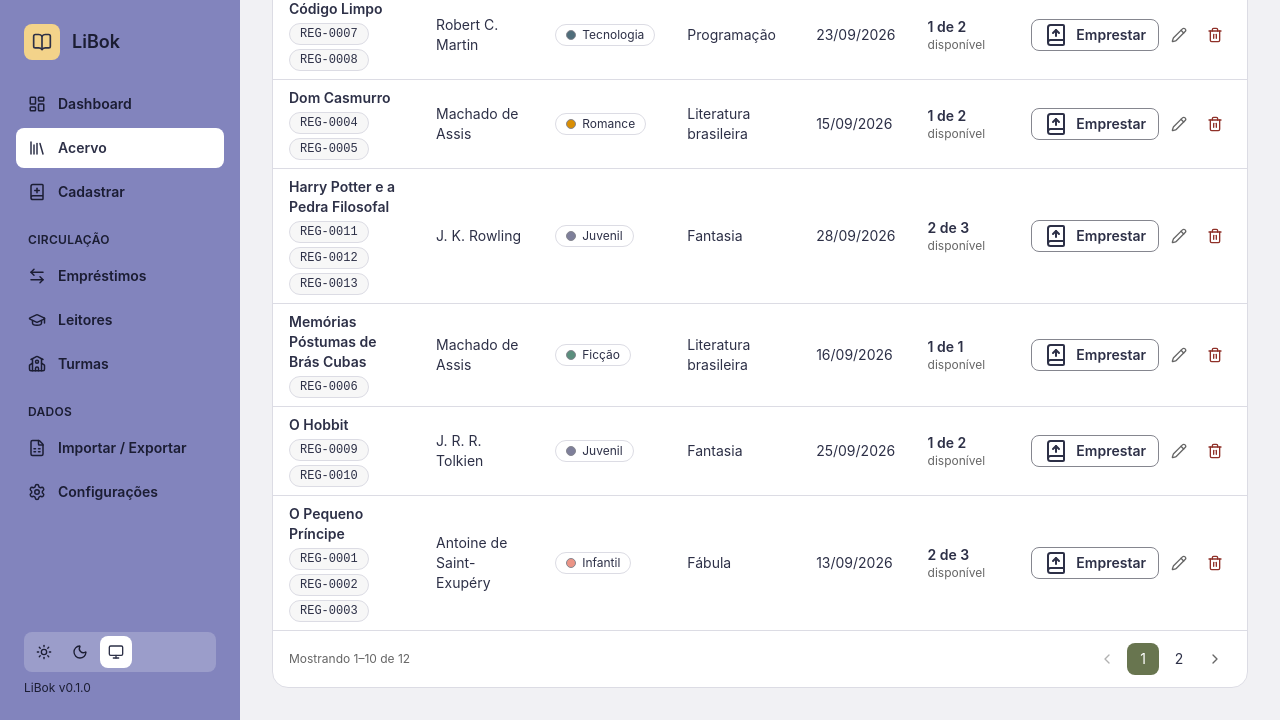
Test: fluxo: emprestar › empresta um exemplar do Acervo para um aluno
This screenshot has width=1280, height=720.
(page scrolled)
Expected: the text "O Pequeno Príncipe" is shown, [289,504,363,542]
Click the button with aria-label "Emprestar O Pequeno Príncipe".
click(1095, 562)  # box [1031,546,1159,578]
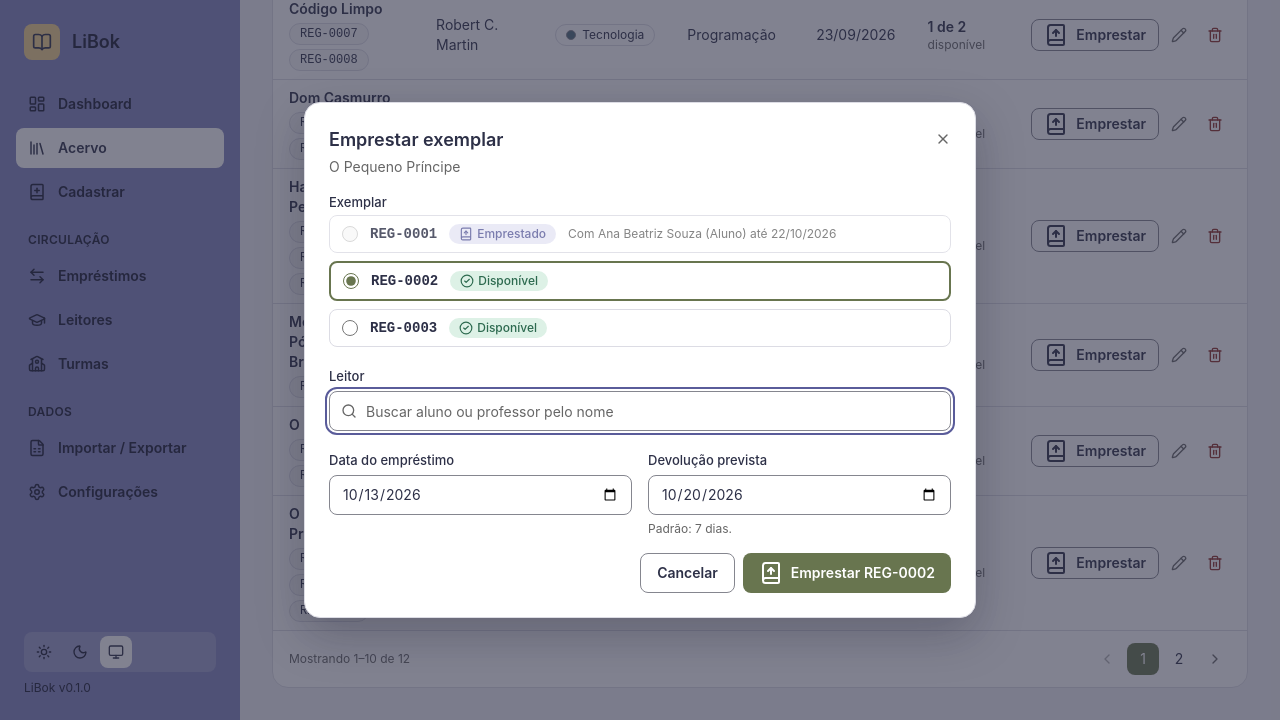
Result: the radio button labelled "REG-0001" is disabled at [342,226,358,242]
Result: the button "Emprestar REG-0002" is shown at [743,553,951,593]
Type "bruno" into the search field labelled "Leitor".
click(640, 411); type("bruno")  # box [329,391,951,431]
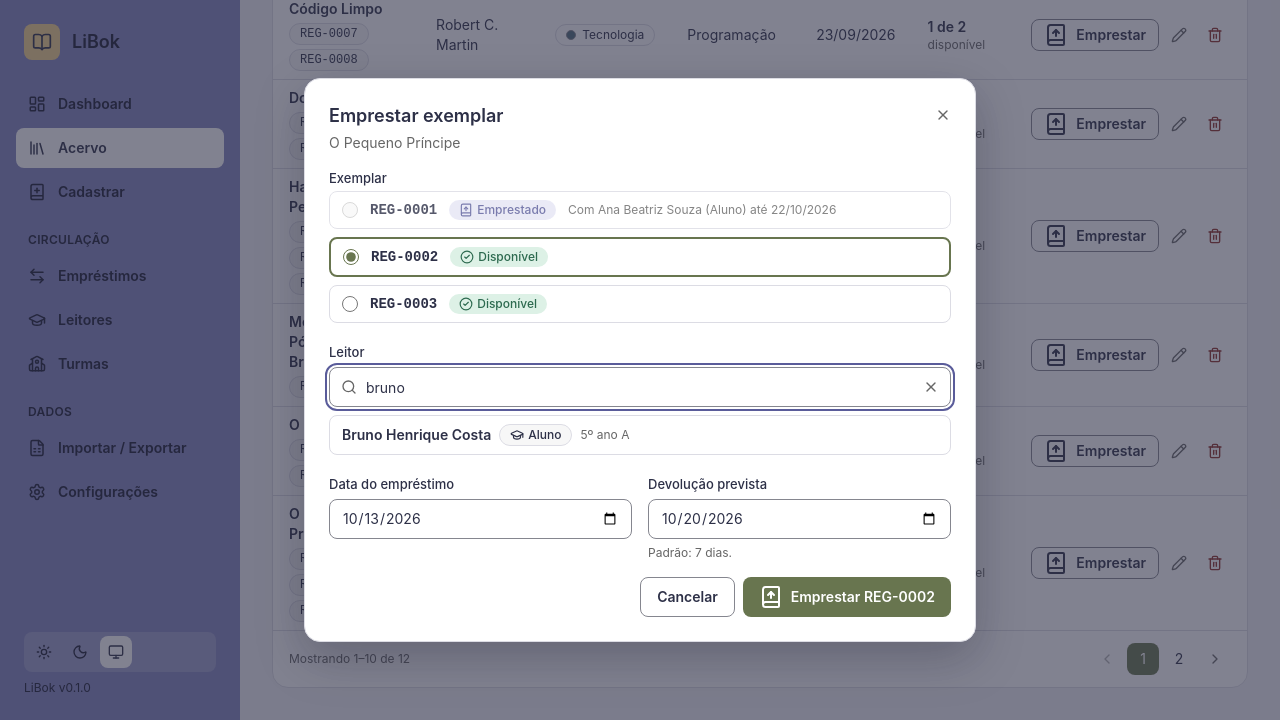
Click the button "Bruno Henrique Costa Aluno 5º ano A".
click(417, 434)  # box [330,416,950,454]
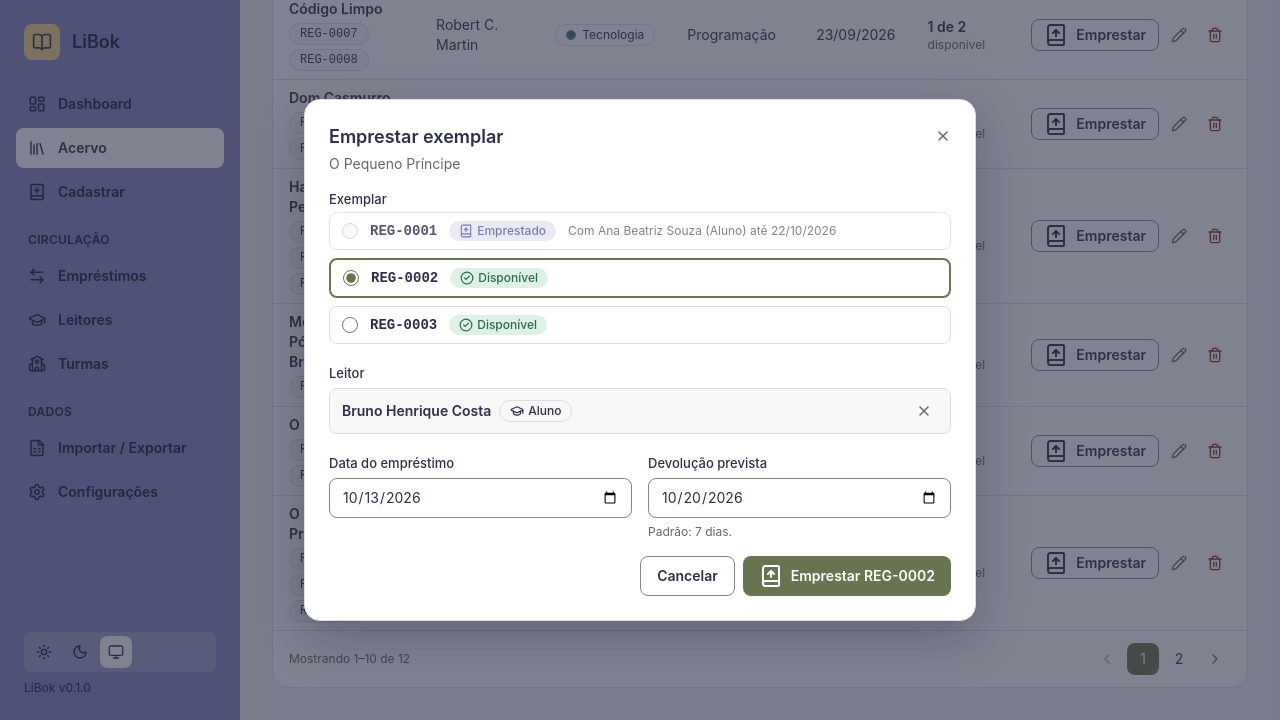
Click the button "Emprestar REG-0002".
click(847, 576)  # box [743,556,951,596]
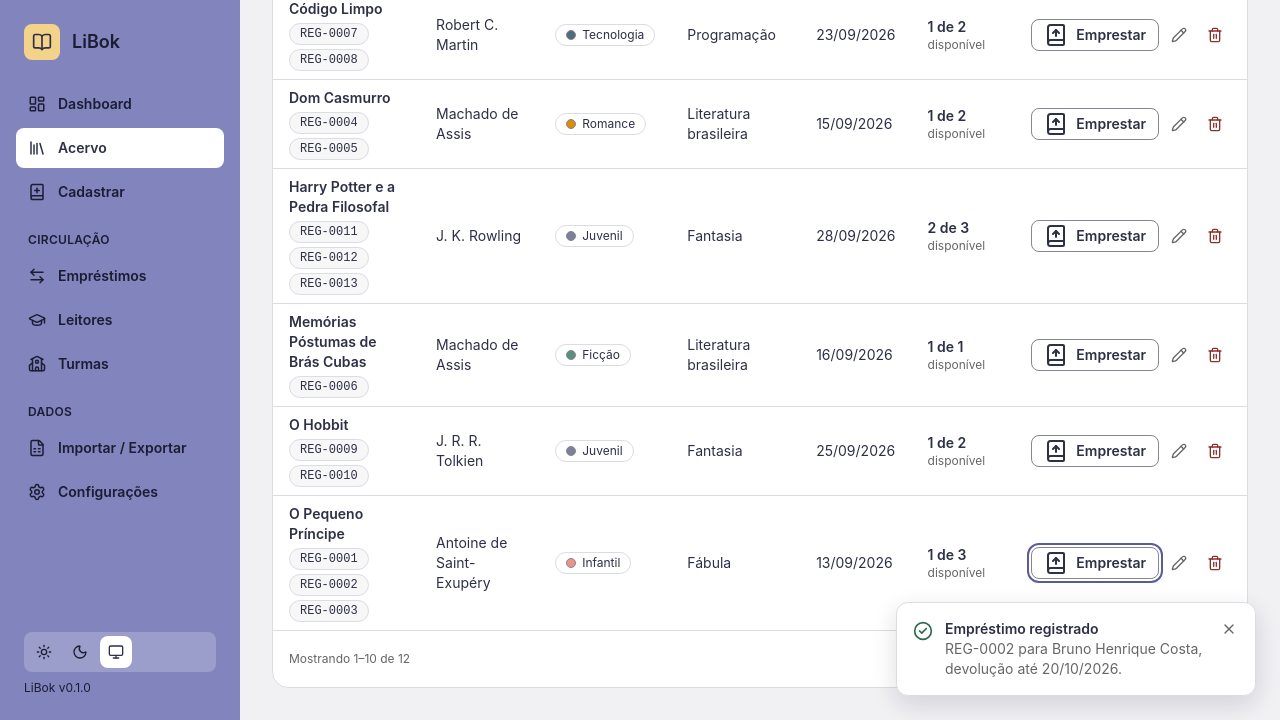
Result: the text "Empréstimo registrado" is shown at [945,620,1099,637]
Result: the dialog is gone
Result: the text "1 de 3" is shown at [928,546,966,562]
